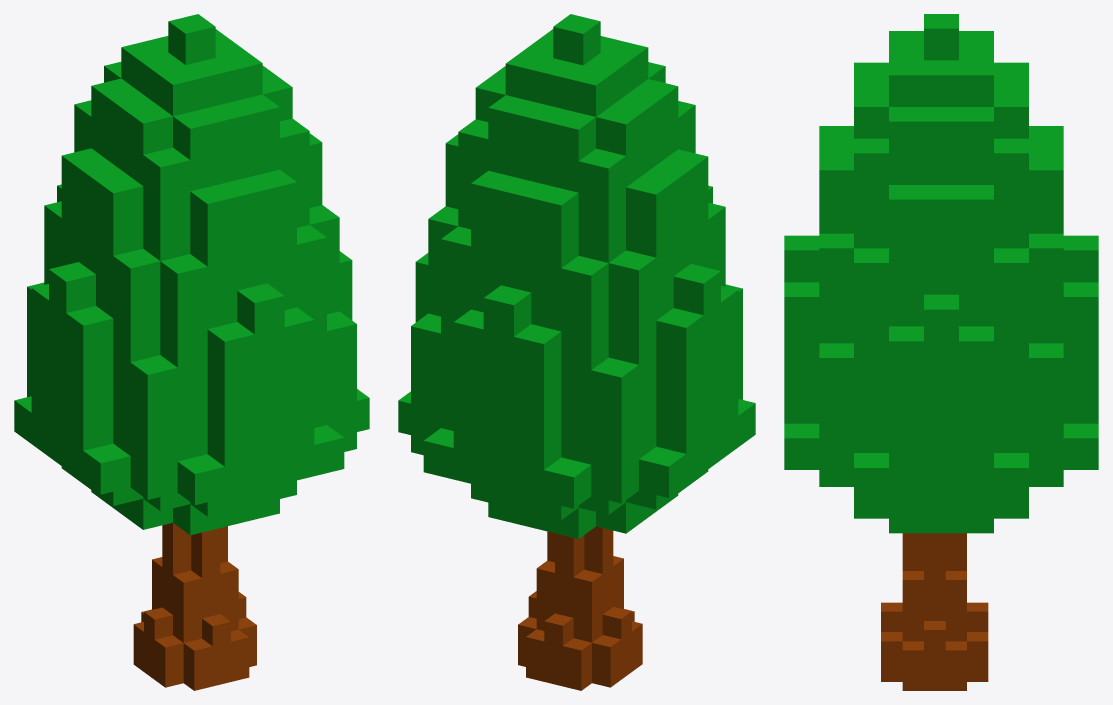
Rendered from tree12.glb.
The picture shows the model from 3 angles, left to right: view 1: azimuth 30°, elevation 25°; view 2: azimuth 150°, elevation 25°; view 3: azimuth 270°, elevation 25°; orthographic projection.
Visible parts, largest first — view 1: geometry_0; view 2: geometry_0; view 3: geometry_0.
Part boxes in pixels (<box>): geometry_0: <box>14,14,369,690</box>; geometry_0: <box>398,14,755,690</box>; geometry_0: <box>784,14,1098,690</box>.
Size of the model in its own units: 3.34 by 7.59 by 3.34.
Materials: 1 (1 with a texture image).
